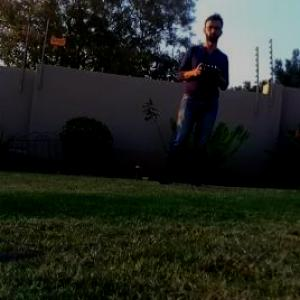follow: (152, 3, 232, 190)
